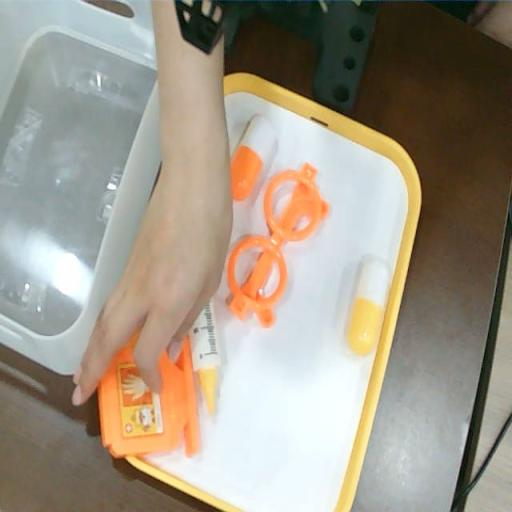hospital: (70, 157, 232, 406)
